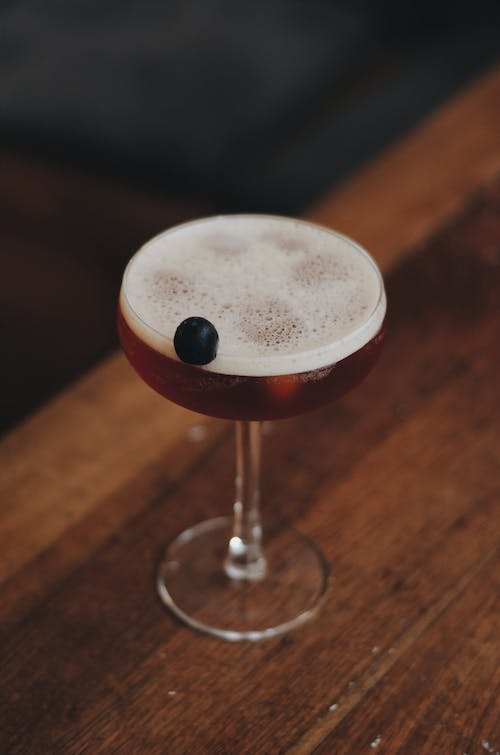alcohol: (112, 209, 389, 645)
